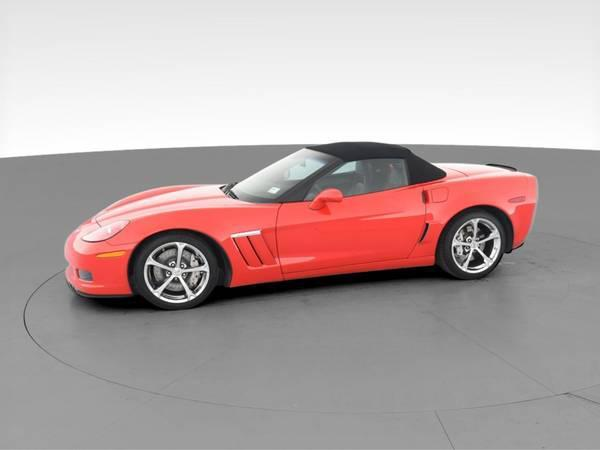Front_Bumper: (59, 215, 133, 296)
Front_Left_Door: (276, 183, 427, 279)
Front_Left_Window: (302, 158, 409, 199)
Front_Windshield: (226, 149, 335, 205)
Hood: (91, 183, 283, 285)
Left_Headlight: (76, 220, 127, 245)
Rear_Fender: (412, 170, 539, 266)
Roof: (274, 140, 447, 202)
Wheel: (130, 245, 216, 321), (441, 211, 508, 281)
